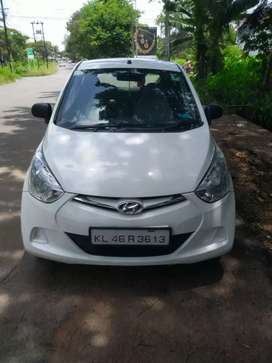KL46R3613: (91, 229, 169, 244)
